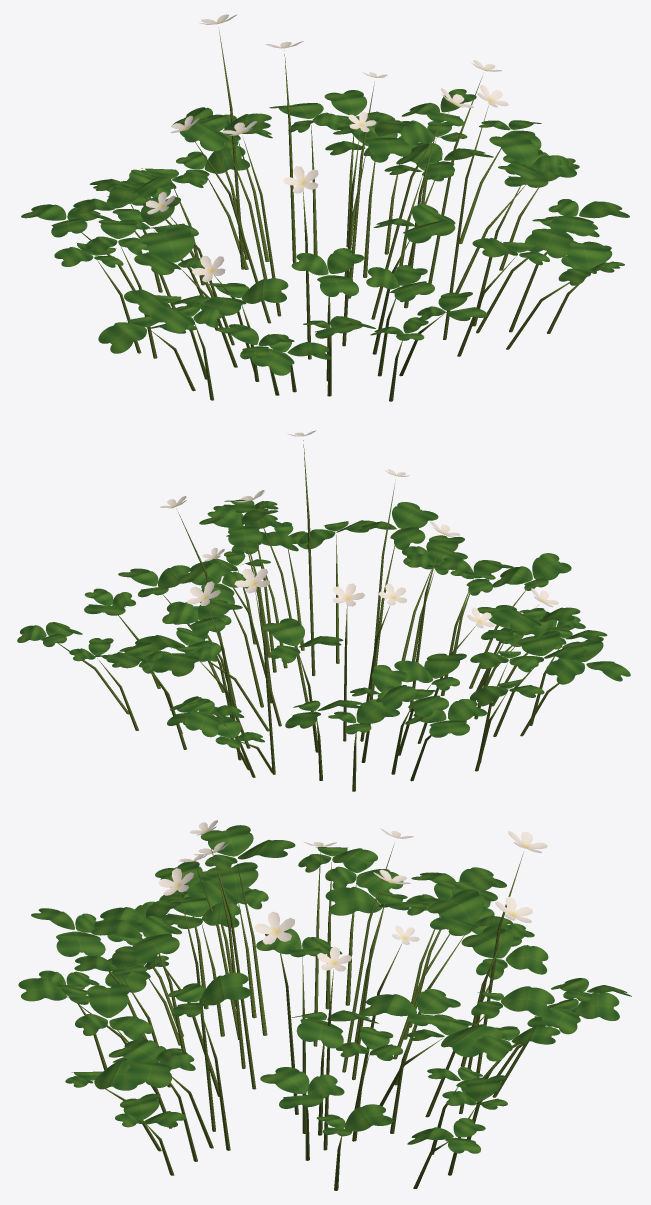
The model's file is wood-sorrel.glb.
The picture shows the model from 3 angles, top to bottom: view 1: azimuth 30°, elevation 25°; view 2: azimuth 150°, elevation 25°; view 3: azimuth 270°, elevation 25°; orthographic projection. The views are drawn at different scales.
Parts seen in each view (by area): view 1: Wood Sorrel; view 2: Wood Sorrel; view 3: Wood Sorrel.
Part boxes in pixels (<box>): Wood Sorrel: <box>21,14,629,401</box>; Wood Sorrel: <box>17,430,630,791</box>; Wood Sorrel: <box>18,820,631,1190</box>.
Bounding box in the file's own units: 0.4384 × 0.1909 × 0.3966.
3 materials, 3 textured.
